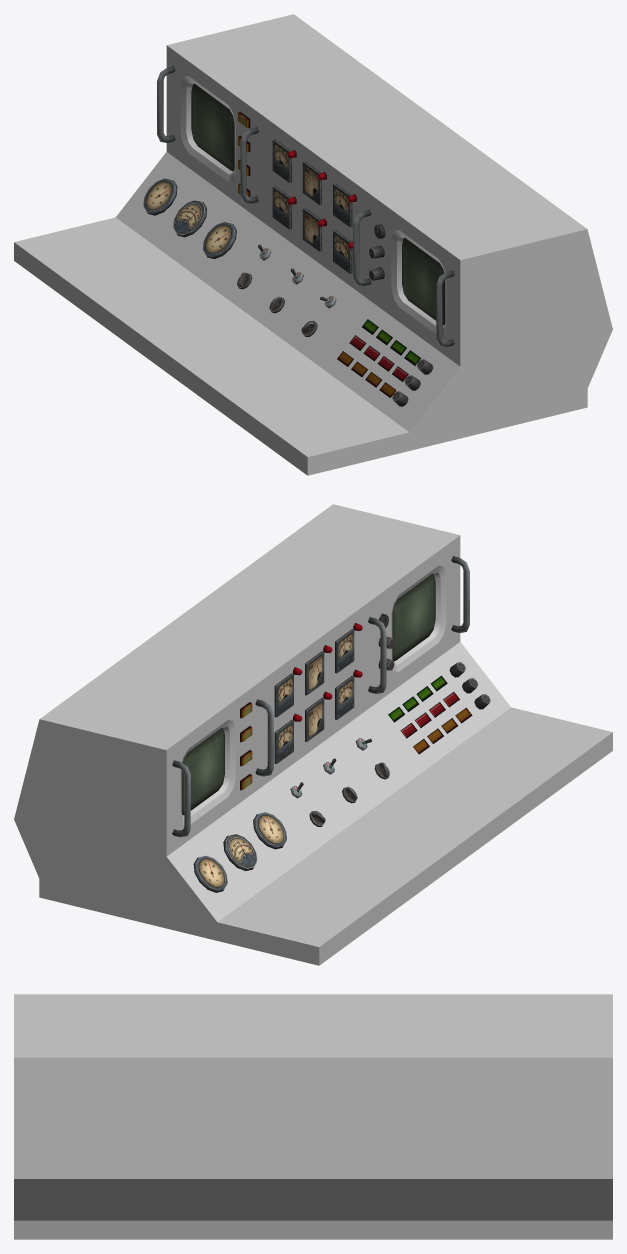
Rendered from ctrlPanel_middle01_D.FBX.
3 views of the same model, one above another, from view 1: azimuth 30°, elevation 25°; view 2: azimuth 150°, elevation 25°; view 3: azimuth 270°, elevation 25° (orthographic).
Parts seen in each view (by area): view 1: ctrlPanel_middle01_D, ctrlPanel_gauges, screen_computer01, ctrlPanel_buttons, screen_computer02; view 2: ctrlPanel_middle01_D, ctrlPanel_gauges, ctrlPanel_buttons, screen_computer02, screen_computer01; view 3: ctrlPanel_middle01_D.
Part boxes in pixels (x1,y1,x2,y2): ctrlPanel_middle01_D: (14,14,612,475); ctrlPanel_gauges: (143,139,352,274); screen_computer01: (191,83,234,171); ctrlPanel_buttons: (238,112,421,397); screen_computer02: (402,238,445,325); ctrlPanel_middle01_D: (14,504,612,965); ctrlPanel_gauges: (193,629,354,892); ctrlPanel_buttons: (240,623,472,790); screen_computer02: (392,573,435,661); screen_computer01: (181,728,224,815); ctrlPanel_middle01_D: (14,994,612,1239).
Bounding box in the file's own units: 120 × 67 × 200.
